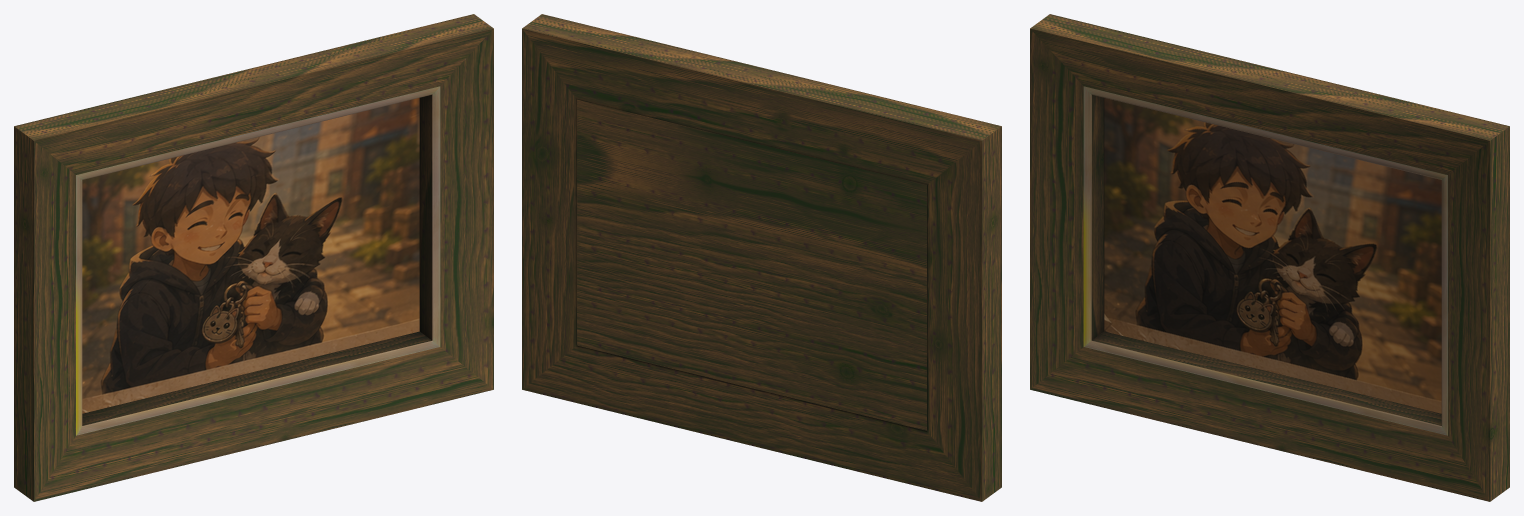
File: photo frame (1).fbx
The picture shows the model from 3 angles, left to right: view 1: azimuth 30°, elevation 25°; view 2: azimuth 150°, elevation 25°; view 3: azimuth 330°, elevation 25°; orthographic projection.
Visible parts, largest first — view 1: Plane.001_DefaultMaterial_0; view 2: Plane.001_DefaultMaterial_0; view 3: Plane.001_DefaultMaterial_0.
Boxes of the visible parts, bbox=[...] form: Plane.001_DefaultMaterial_0: bbox=[14, 14, 493, 501]; Plane.001_DefaultMaterial_0: bbox=[522, 14, 1001, 501]; Plane.001_DefaultMaterial_0: bbox=[1030, 14, 1509, 501].
Size of the model in its own units: 20 by 15 by 1.5.
2 materials, 2 textured.
